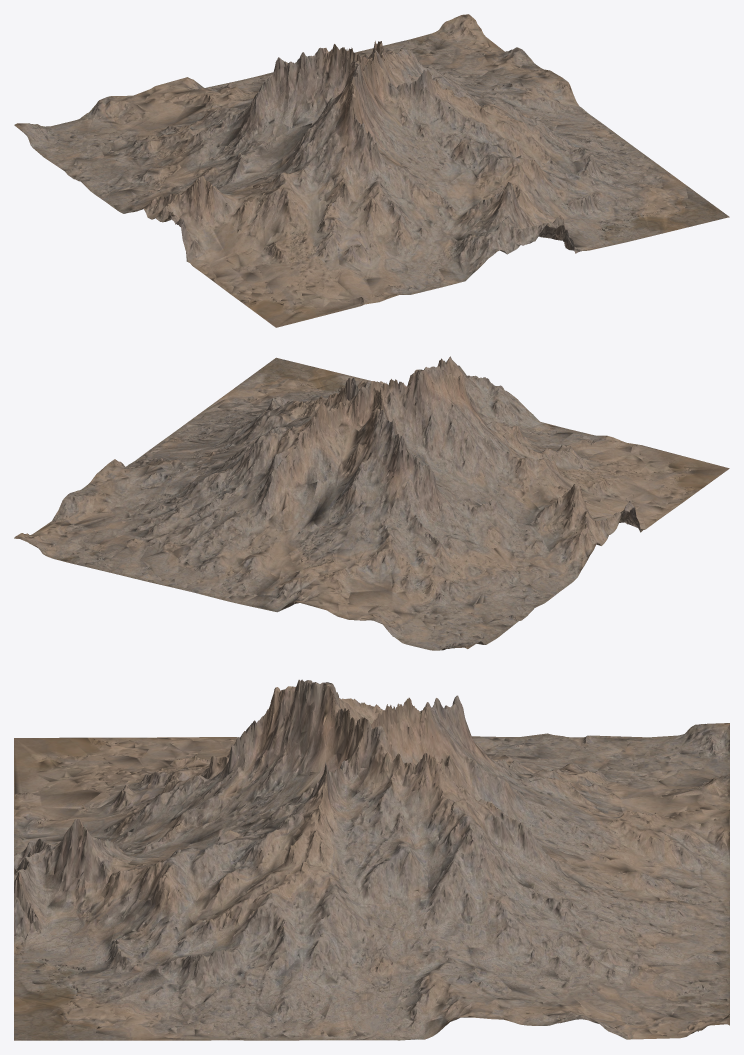
The model's file is only-a-mountain.glb.
The picture shows the model from 3 angles, top to bottom: view 1: azimuth 30°, elevation 25°; view 2: azimuth 150°, elevation 25°; view 3: azimuth 270°, elevation 25°; orthographic projection. The views are drawn at different scales.
Visible parts, largest first — view 1: Only_a Mountain_Only_a MountainMat_0; view 2: Only_a Mountain_Only_a MountainMat_0; view 3: Only_a Mountain_Only_a MountainMat_0.
Boxes of the visible parts, x1,y1,x2,y2 form: Only_a Mountain_Only_a MountainMat_0: [14, 14, 729, 327]; Only_a Mountain_Only_a MountainMat_0: [14, 356, 729, 650]; Only_a Mountain_Only_a MountainMat_0: [14, 679, 729, 1040].
Size of the model in its own units: 26.89 by 7.67 by 26.89.
Materials: 1 (1 with a texture image).
